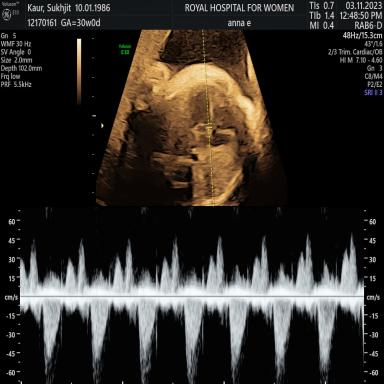Ultrasound-Waves: (25, 208, 360, 384)
